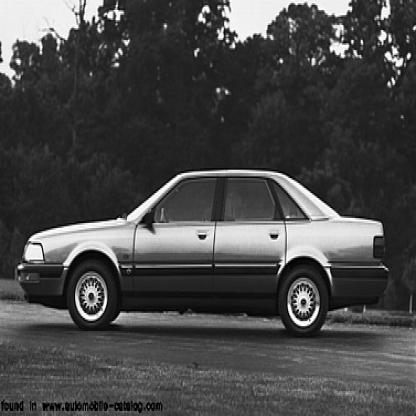Vehicle: (18, 173, 390, 335)
